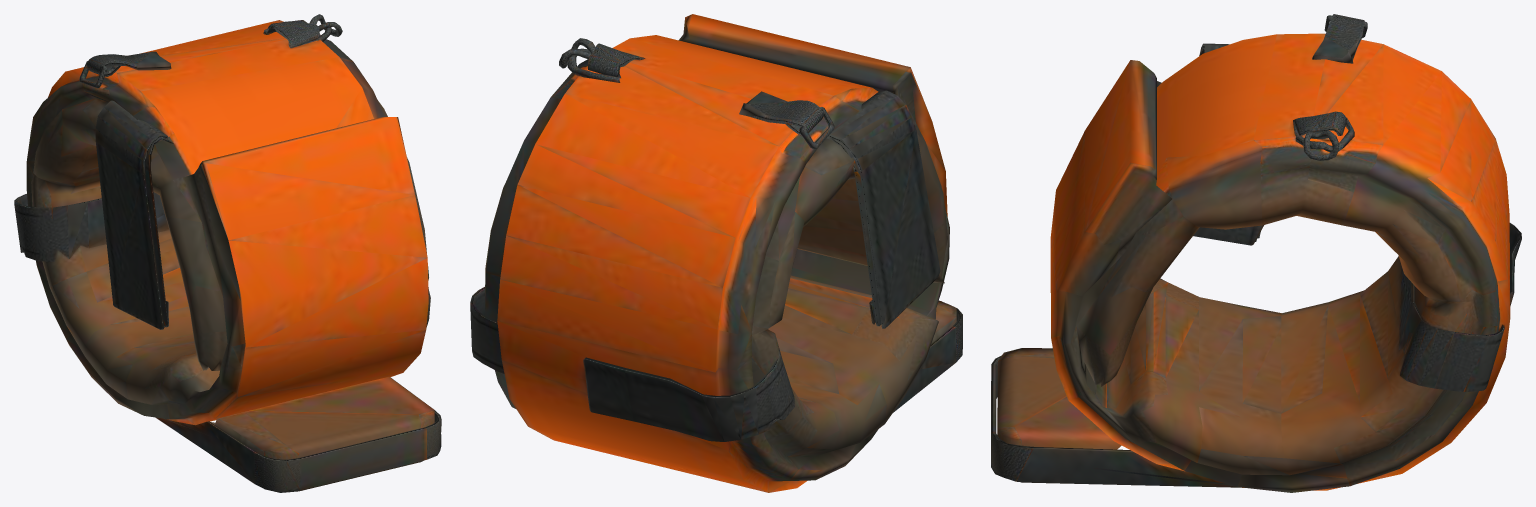
File: office-med-leg-splint.glb
3 renders of one model, left to right at view 1: azimuth 30°, elevation 25°; view 2: azimuth 150°, elevation 25°; view 3: azimuth 270°, elevation 25°, orthographic. The views are drawn at different scales.
Parts seen in each view (by area): view 1: med-leg-splint; view 2: med-leg-splint; view 3: med-leg-splint.
Boxes of the visible parts, box(x1,y1,x2,y2) form: med-leg-splint: box(14, 14, 441, 492); med-leg-splint: box(470, 14, 962, 492); med-leg-splint: box(991, 14, 1521, 492).
Bounding box in the file's own units: 0.1539 × 0.1846 × 0.24.
1 material, 1 textured.
